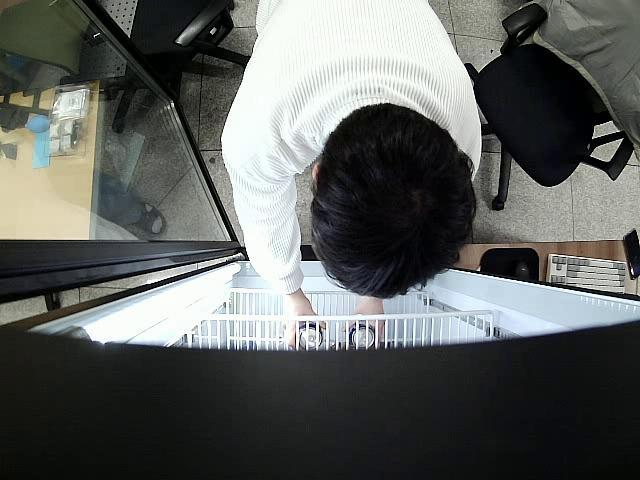14_welchsGrape: (292, 324, 326, 352), (348, 324, 381, 352)
